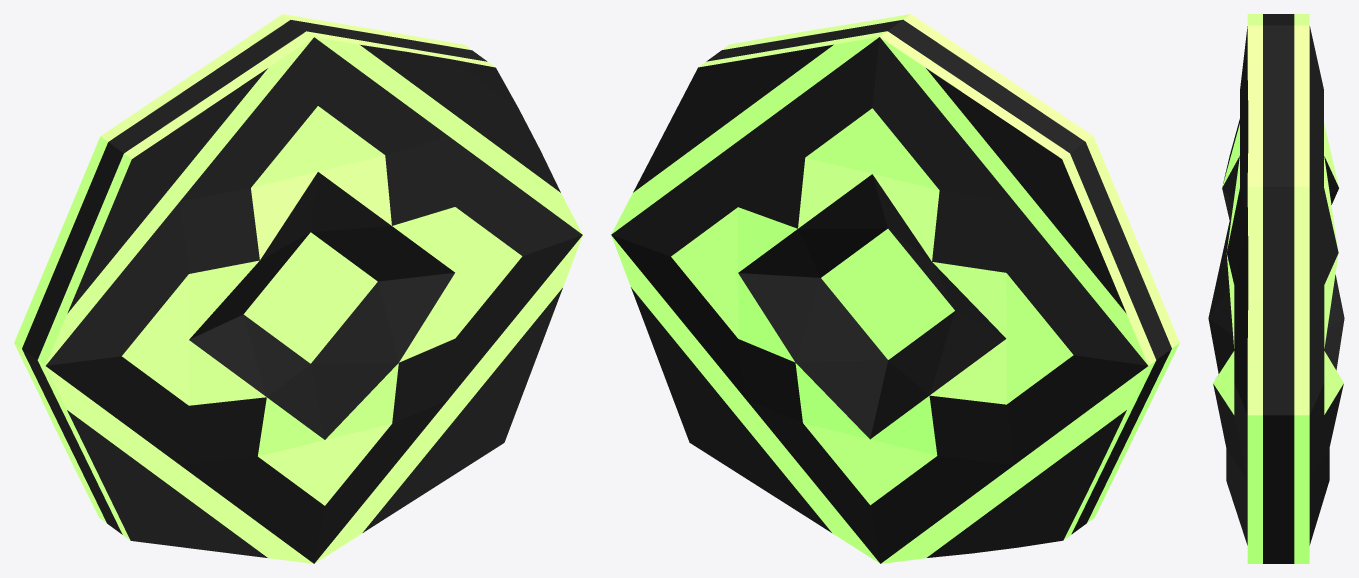
The model's file is greenTablet.fbx.
3 views of the same model, side by side, from view 1: azimuth 30°, elevation 25°; view 2: azimuth 150°, elevation 25°; view 3: azimuth 270°, elevation 25° (orthographic).
Visible parts, largest first — view 1: Cube; view 2: Cube; view 3: Cube.
Part boxes in pixels (x1,y1,x2,y2): Cube: [14, 14, 582, 563]; Cube: [611, 14, 1179, 563]; Cube: [1208, 14, 1344, 563].
Bounding box in the file's own units: 146 × 137 × 32.47.
